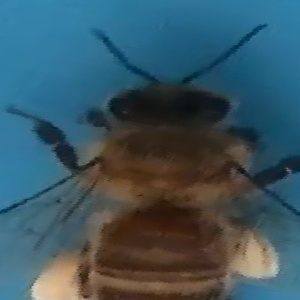bee: (10, 24, 295, 298)
